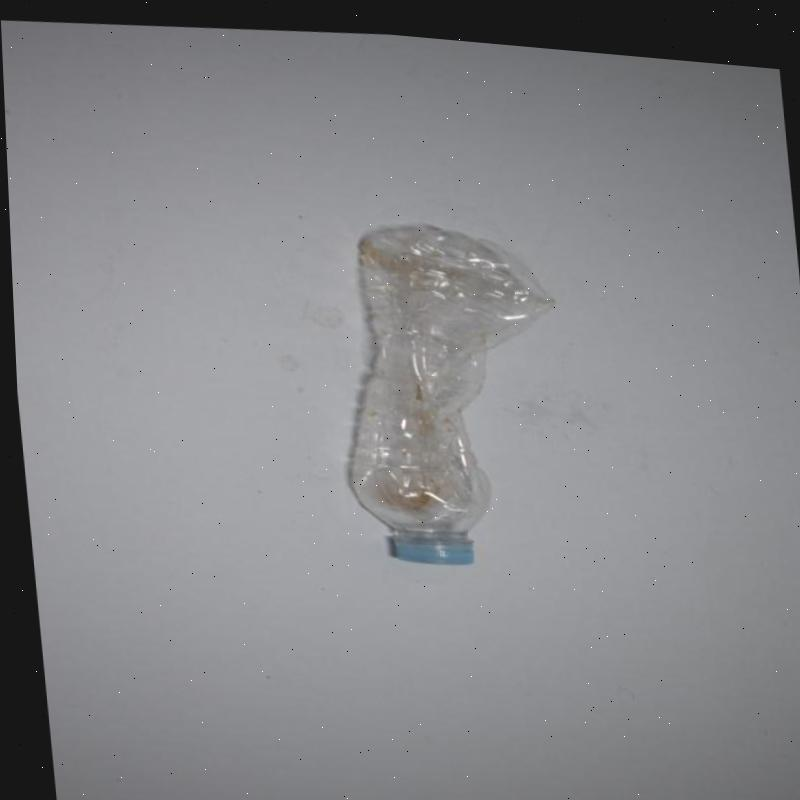botella: (317, 202, 579, 571)
